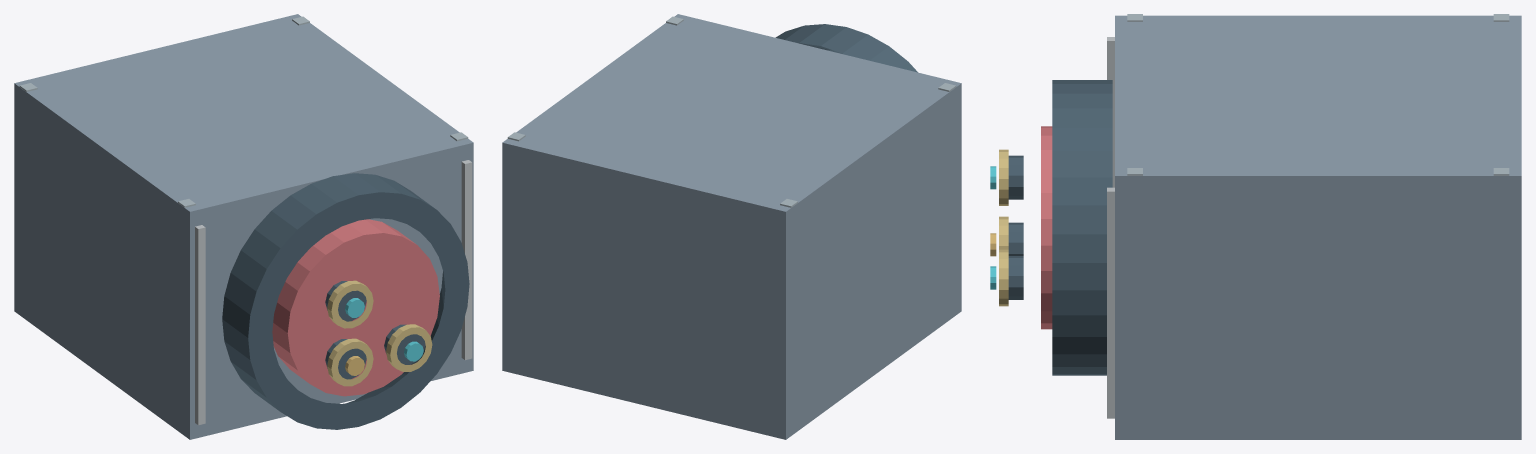
Rendered from 73_L83_SpacecraftPowerThermalInspectionCamera.glb.
3 views of the same model, side by side, from view 1: azimuth 30°, elevation 25°; view 2: azimuth 150°, elevation 25°; view 3: azimuth 270°, elevation 25° (orthographic). The views are drawn at different scales.
Visible parts, largest first — view 1: SpacecraftPowerThermalInspectionCamera_Node_0000, SpacecraftPowerThermalInspectionCamera_Node_0007, SpacecraftPowerThermalInspectionCamera_Node_0008, SpacecraftPowerThermalInspectionCamera_Node_0005, SpacecraftPowerThermalInspectionCamera_Node_0006, SpacecraftPowerThermalInspectionCamera_Node_0010, SpacecraftPowerThermalInspectionCamera_Node_0013, SpacecraftPowerThermalInspectionCamera_Node_0016, SpacecraftPowerThermalInspectionCamera_Node_0009, SpacecraftPowerThermalInspectionCamera_Node_0012, SpacecraftPowerThermalInspectionCamera_Node_0015; view 2: SpacecraftPowerThermalInspectionCamera_Node_0000, SpacecraftPowerThermalInspectionCamera_Node_0007; view 3: SpacecraftPowerThermalInspectionCamera_Node_0000, SpacecraftPowerThermalInspectionCamera_Node_0007, SpacecraftPowerThermalInspectionCamera_Node_0008, SpacecraftPowerThermalInspectionCamera_Node_0006, SpacecraftPowerThermalInspectionCamera_Node_0015, SpacecraftPowerThermalInspectionCamera_Node_0012, SpacecraftPowerThermalInspectionCamera_Node_0005, SpacecraftPowerThermalInspectionCamera_Node_0013, SpacecraftPowerThermalInspectionCamera_Node_0016, SpacecraftPowerThermalInspectionCamera_Node_0009.
Boxes of the visible parts, x1=… form: SpacecraftPowerThermalInspectionCamera_Node_0000: x1=14, y1=14, x2=473, y2=439; SpacecraftPowerThermalInspectionCamera_Node_0007: x1=222, y1=173, x2=469, y2=429; SpacecraftPowerThermalInspectionCamera_Node_0008: x1=272, y1=219, x2=439, y2=396; SpacecraftPowerThermalInspectionCamera_Node_0005: x1=195, y1=225, x2=205, y2=425; SpacecraftPowerThermalInspectionCamera_Node_0006: x1=461, y1=160, x2=472, y2=360; SpacecraftPowerThermalInspectionCamera_Node_0010: x1=327, y1=338, x2=373, y2=386; SpacecraftPowerThermalInspectionCamera_Node_0013: x1=386, y1=324, x2=432, y2=371; SpacecraftPowerThermalInspectionCamera_Node_0016: x1=327, y1=280, x2=373, y2=328; SpacecraftPowerThermalInspectionCamera_Node_0009: x1=325, y1=339, x2=366, y2=379; SpacecraftPowerThermalInspectionCamera_Node_0012: x1=384, y1=324, x2=425, y2=364; SpacecraftPowerThermalInspectionCamera_Node_0015: x1=325, y1=281, x2=366, y2=321; SpacecraftPowerThermalInspectionCamera_Node_0000: x1=502, y1=14, x2=961, y2=439; SpacecraftPowerThermalInspectionCamera_Node_0007: x1=775, y1=24, x2=917, y2=72; SpacecraftPowerThermalInspectionCamera_Node_0000: x1=1115, y1=15, x2=1521, y2=439; SpacecraftPowerThermalInspectionCamera_Node_0007: x1=1052, y1=80, x2=1112, y2=375; SpacecraftPowerThermalInspectionCamera_Node_0008: x1=1041, y1=126, x2=1052, y2=329; SpacecraftPowerThermalInspectionCamera_Node_0006: x1=1107, y1=187, x2=1114, y2=418; SpacecraftPowerThermalInspectionCamera_Node_0015: x1=1008, y1=155, x2=1023, y2=199; SpacecraftPowerThermalInspectionCamera_Node_0012: x1=1008, y1=256, x2=1023, y2=299; SpacecraftPowerThermalInspectionCamera_Node_0005: x1=1107, y1=37, x2=1114, y2=187; SpacecraftPowerThermalInspectionCamera_Node_0013: x1=999, y1=249, x2=1008, y2=306; SpacecraftPowerThermalInspectionCamera_Node_0016: x1=999, y1=149, x2=1008, y2=205; SpacecraftPowerThermalInspectionCamera_Node_0009: x1=1008, y1=222, x2=1023, y2=255.
Size of the model in its own units: 0.82 by 0.64 by 1.15.
